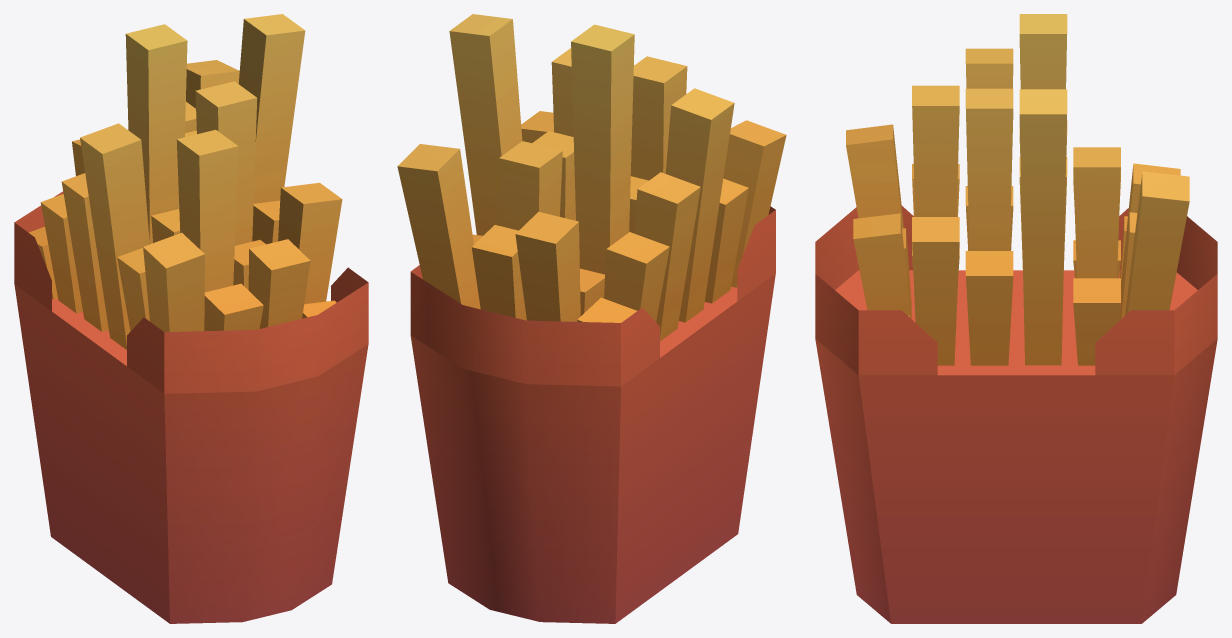
File: food.fries.glb
The picture shows the model from 3 angles, left to right: view 1: azimuth 30°, elevation 25°; view 2: azimuth 150°, elevation 25°; view 3: azimuth 270°, elevation 25°; orthographic projection. The views are drawn at different scales.
Parts seen in each view (by area): view 1: fries (×2); view 2: fries (×2); view 3: fries (×2).
Part boxes in pixels (<box>): fries (×2): <box>14,14,368,623</box>; fries (×2): <box>397,14,786,623</box>; fries (×2): <box>815,14,1217,623</box>.
Size of the model in its own units: 0.0543 by 0.1181 by 0.0788.
1 material, 1 textured.
